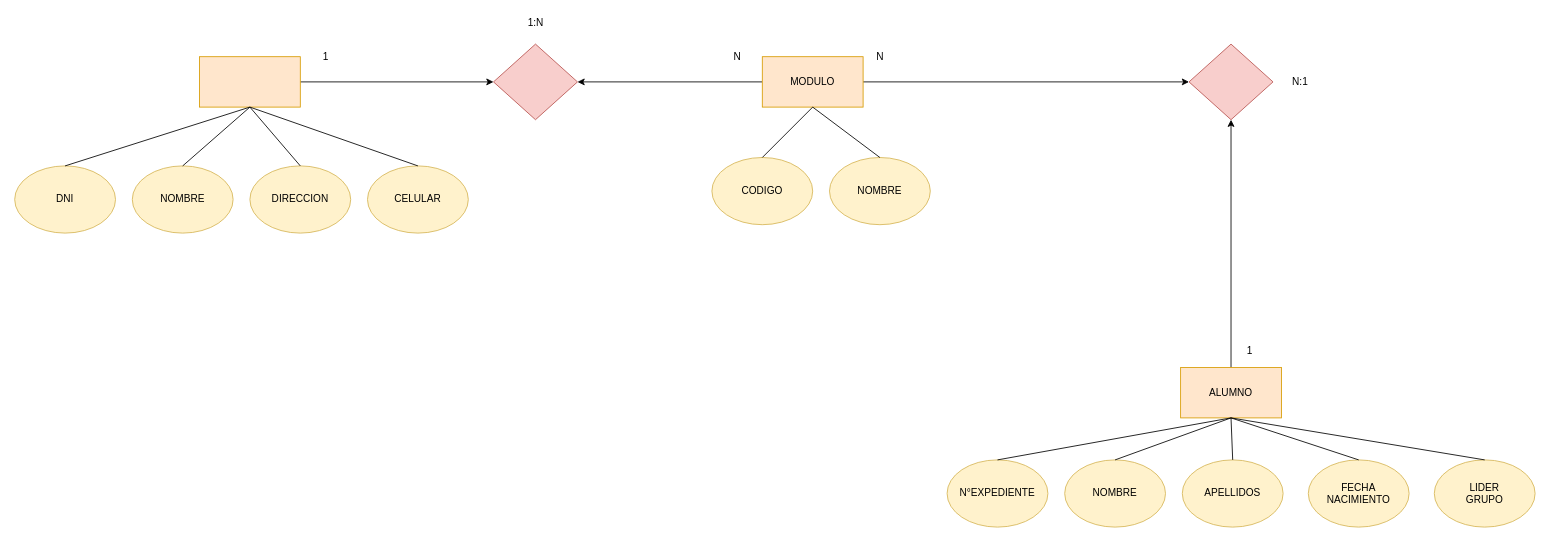
This 1550x542 diagram has some shape labels left out. The shapes that lost their labels are listed below. From the top down, each one's centre as x and y in pixels, then its label:
(x=249, y=81): PROFESOR
(x=535, y=81): IMPARTIR
(x=1230, y=81): MATRICULA
